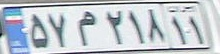character: (75, 6, 99, 48), (48, 9, 69, 50), (105, 6, 125, 45), (147, 7, 167, 45), (29, 13, 49, 50), (127, 7, 146, 44), (170, 14, 188, 46), (188, 14, 205, 46)
